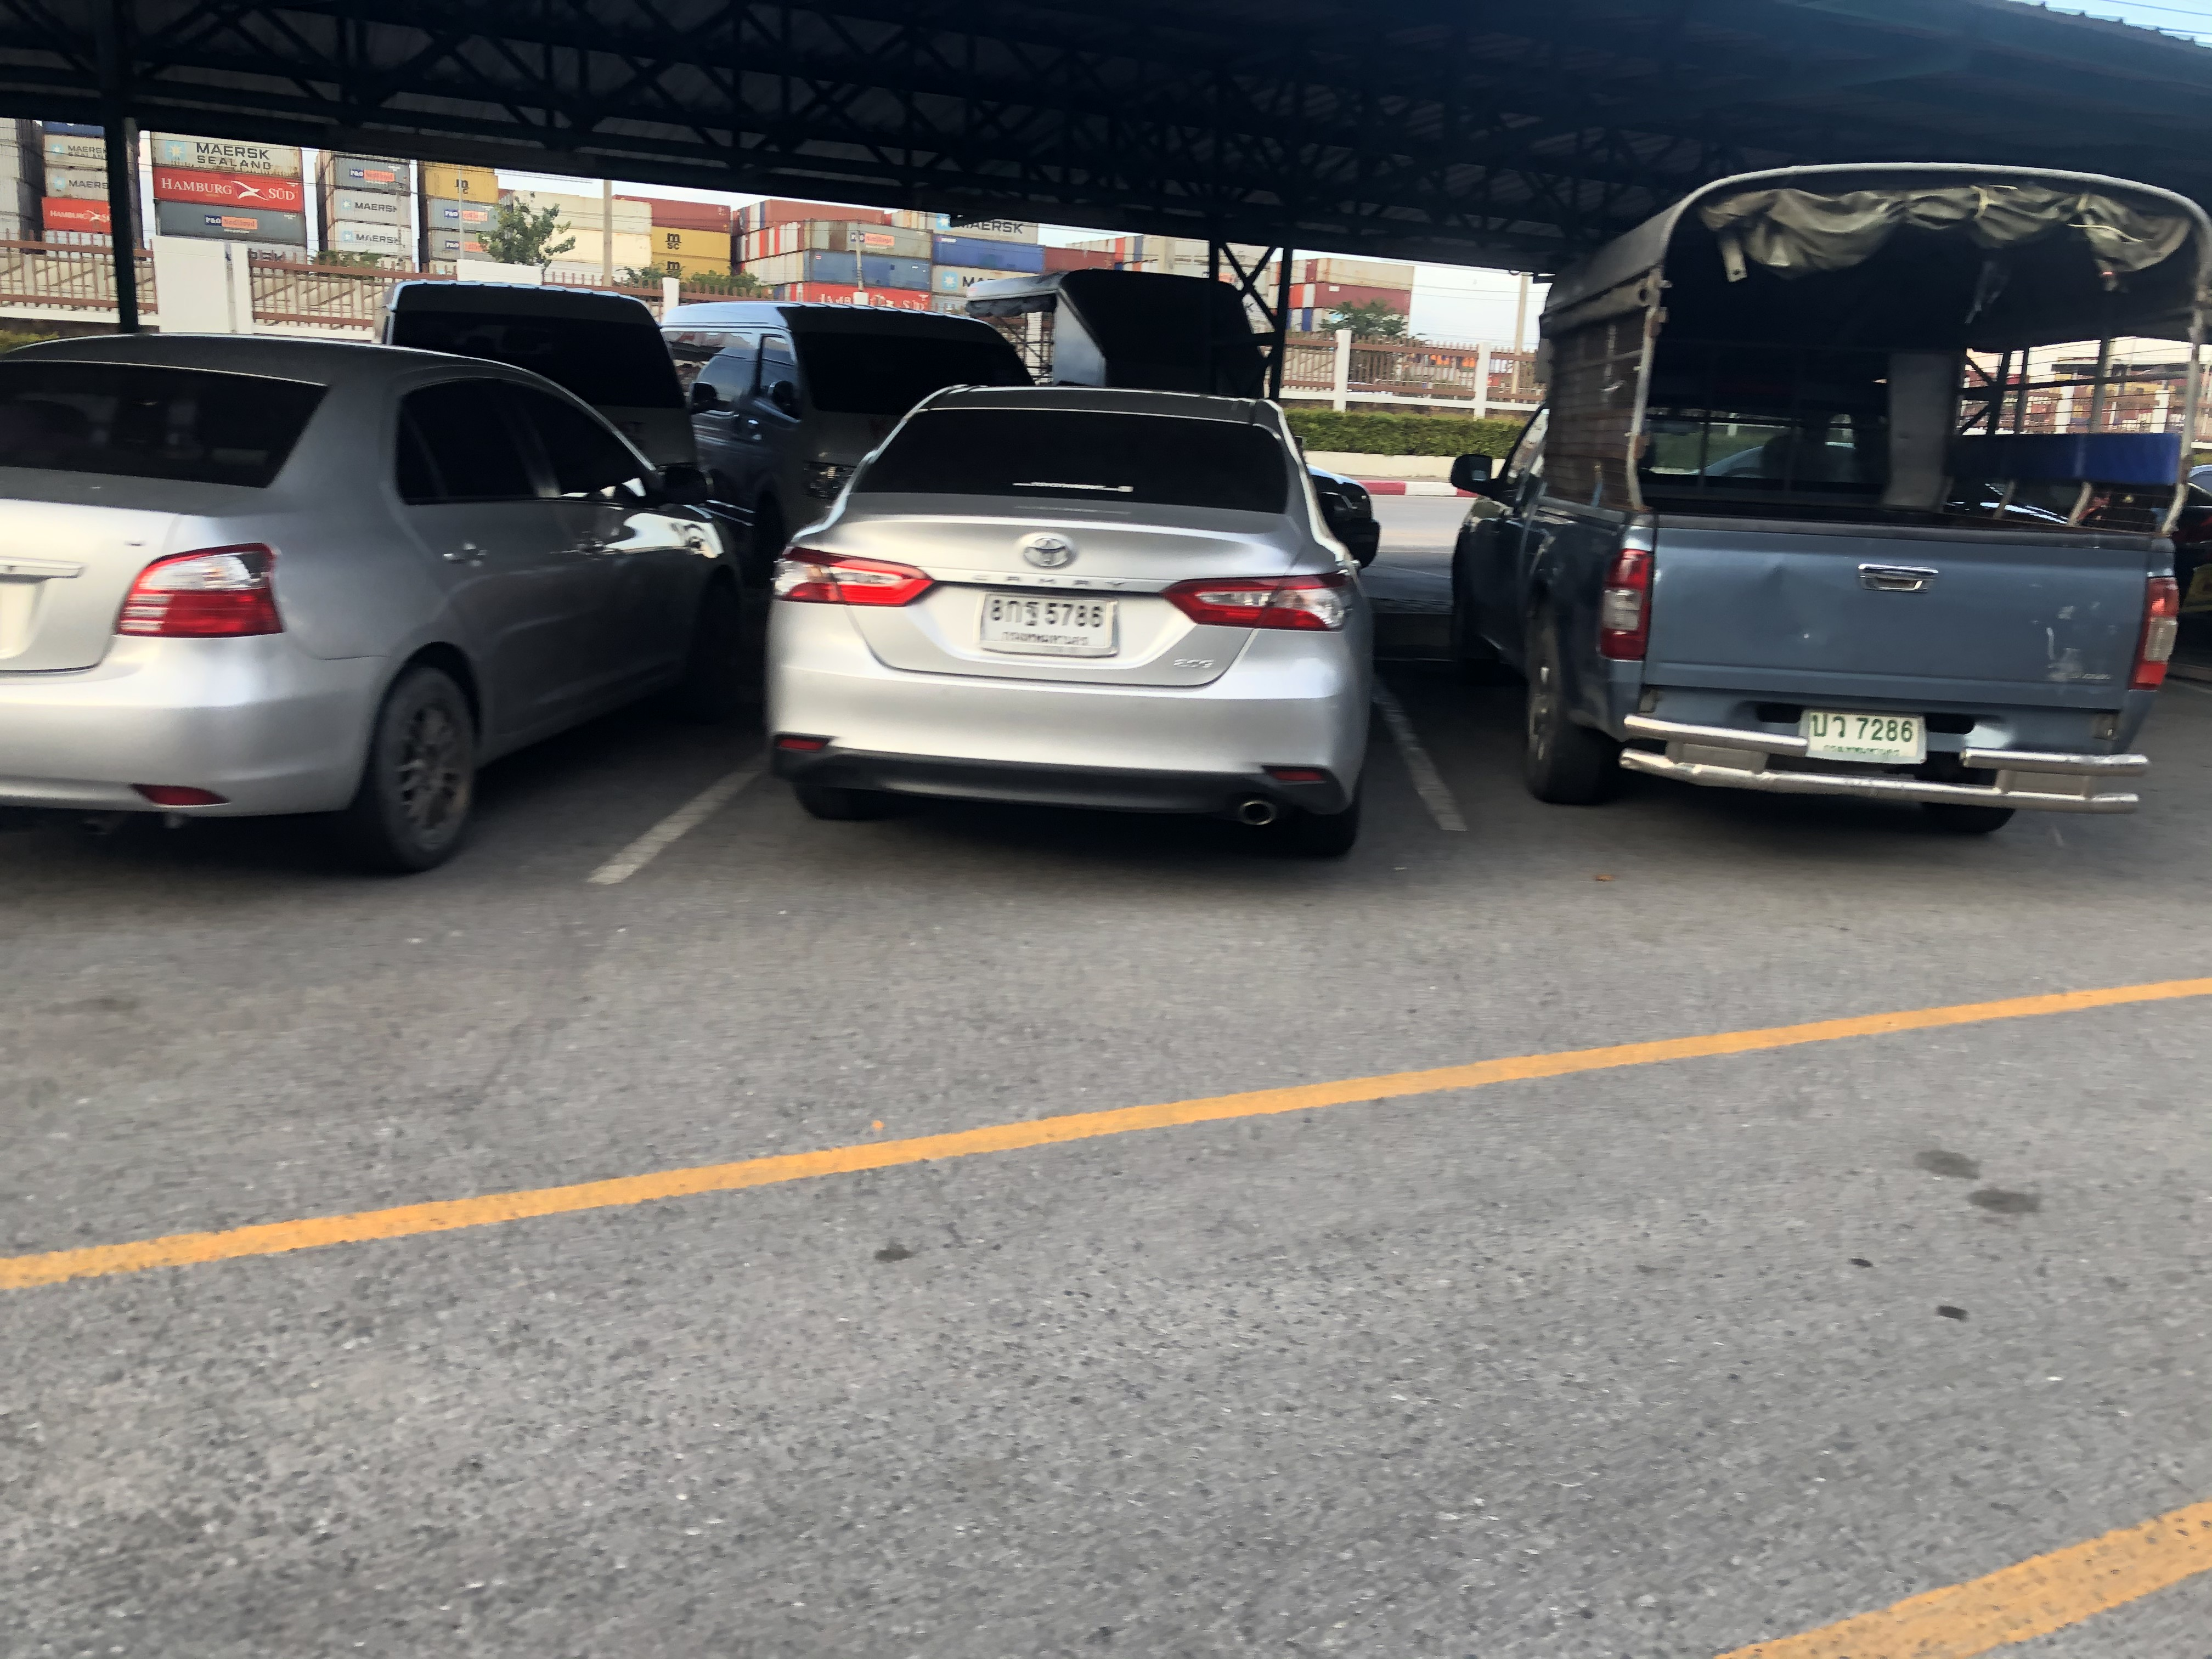in: (984, 592, 1108, 647), (1808, 711, 1919, 756)
out: (975, 587, 1122, 660), (1799, 704, 1926, 765)
